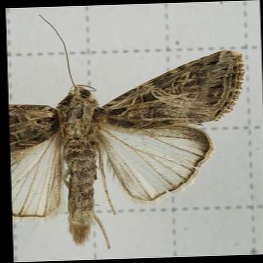Spodoptera litura: (9, 10, 246, 247)
